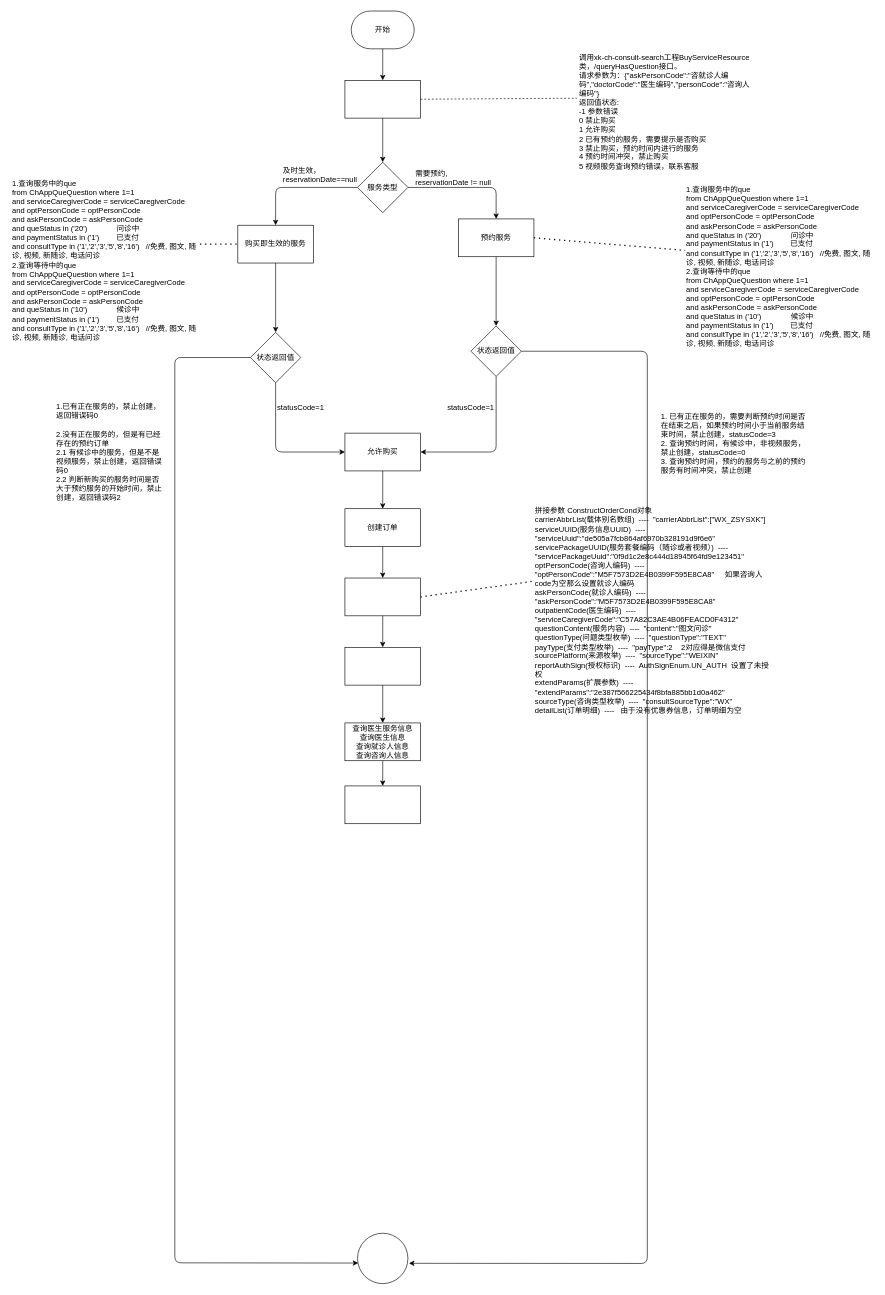
The diagram is 885 pixels wide and 1295 high, and some of its shapes have lost their labels. Here are the shapes that lost their labels. From the top down, the centre of each, then its label:
[382,99]: 购买服务前查询状态
[382,596]: 拼接参数
[382,666]: 调用xk-mobile-payment-consult工程
[382,804]: 实体对象转换conver
[382,1258]: 结束
